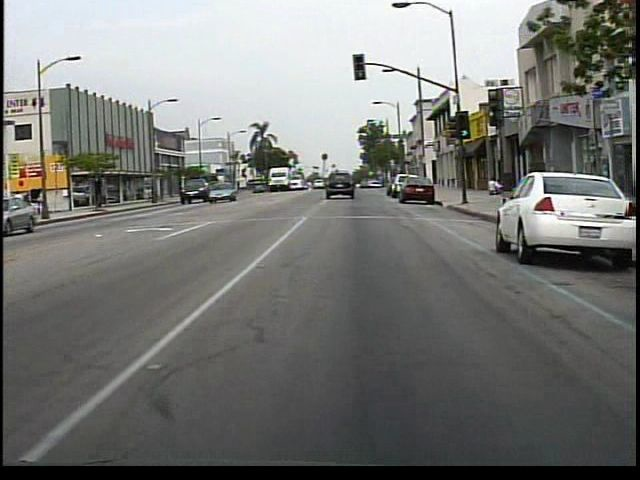person: (12, 185, 30, 218), (484, 174, 501, 199)
